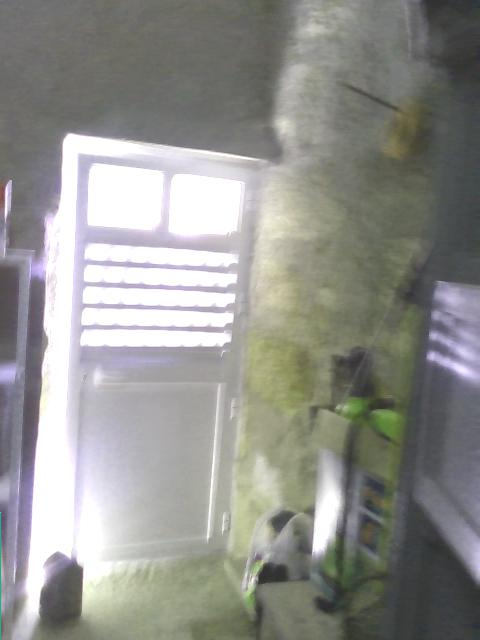closed_door: (60, 137, 259, 552)
